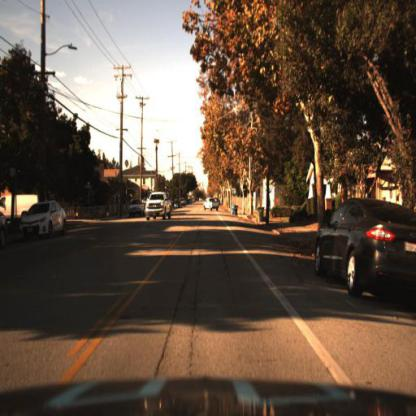car: (314, 198, 416, 300), (17, 199, 68, 243), (144, 190, 174, 223), (201, 197, 222, 213), (174, 199, 184, 213)
